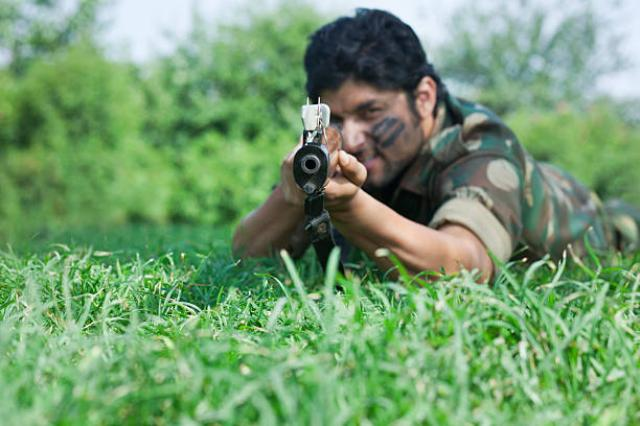other: (232, 8, 640, 261)
